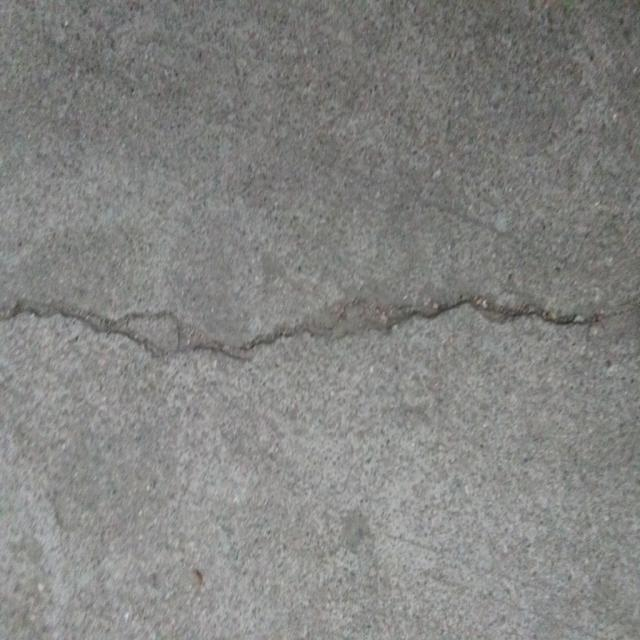cracks: (21, 256, 640, 378)
